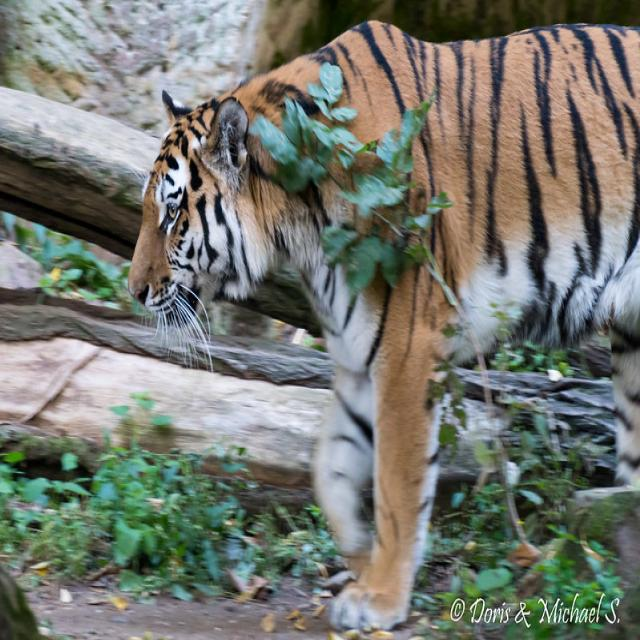Tiger: (126, 4, 639, 626)
